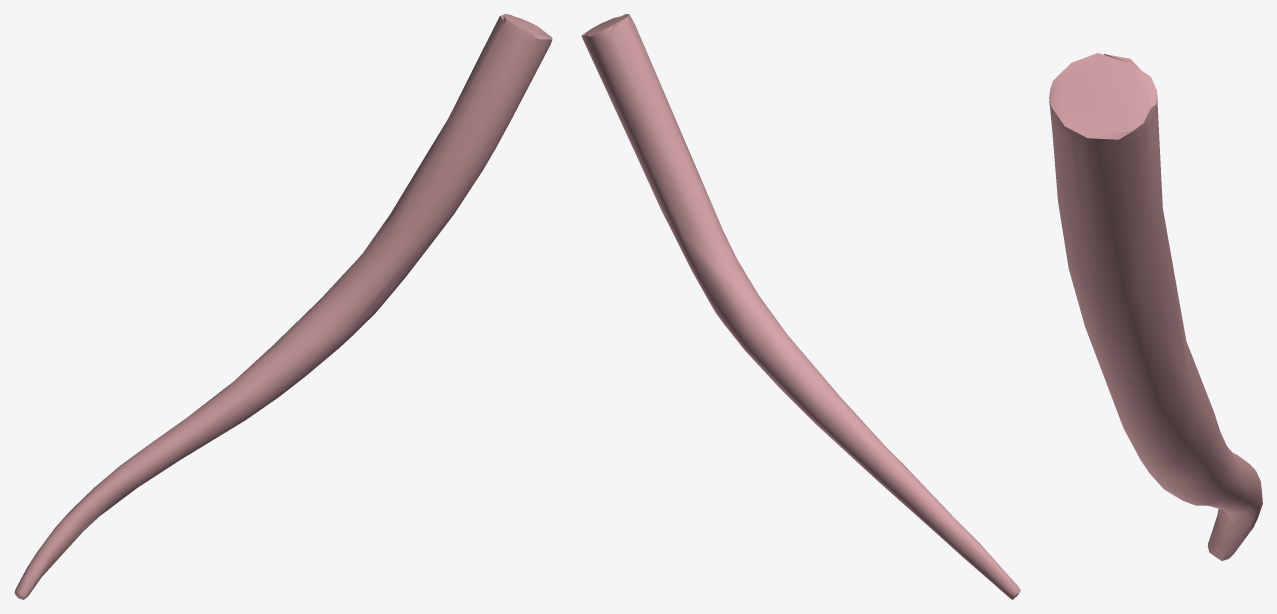
The model's file is fma68220_fj6556.glb.
3 views of the same model, side by side, from view 1: azimuth 30°, elevation 25°; view 2: azimuth 150°, elevation 25°; view 3: azimuth 270°, elevation 25° (orthographic). The views are drawn at different scales.
Parts seen in each view (by area): view 1: FMA68220_FJ6556; view 2: FMA68220_FJ6556; view 3: FMA68220_FJ6556.
Boxes of the visible parts, x1,y1,x2,y2 form: FMA68220_FJ6556: (14, 14, 552, 599); FMA68220_FJ6556: (581, 14, 1020, 599); FMA68220_FJ6556: (1049, 53, 1262, 560).
Size of the model in its own units: 0.0689 by 0.065 by 0.0138.
